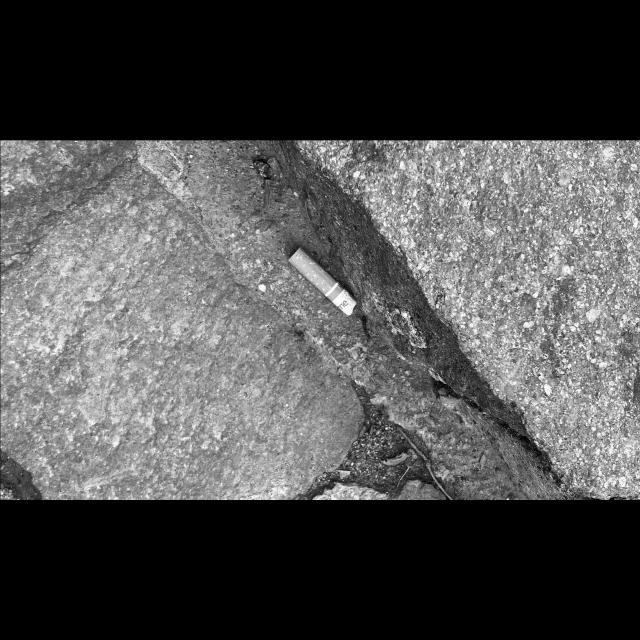cigarette: (287, 245, 357, 316)
